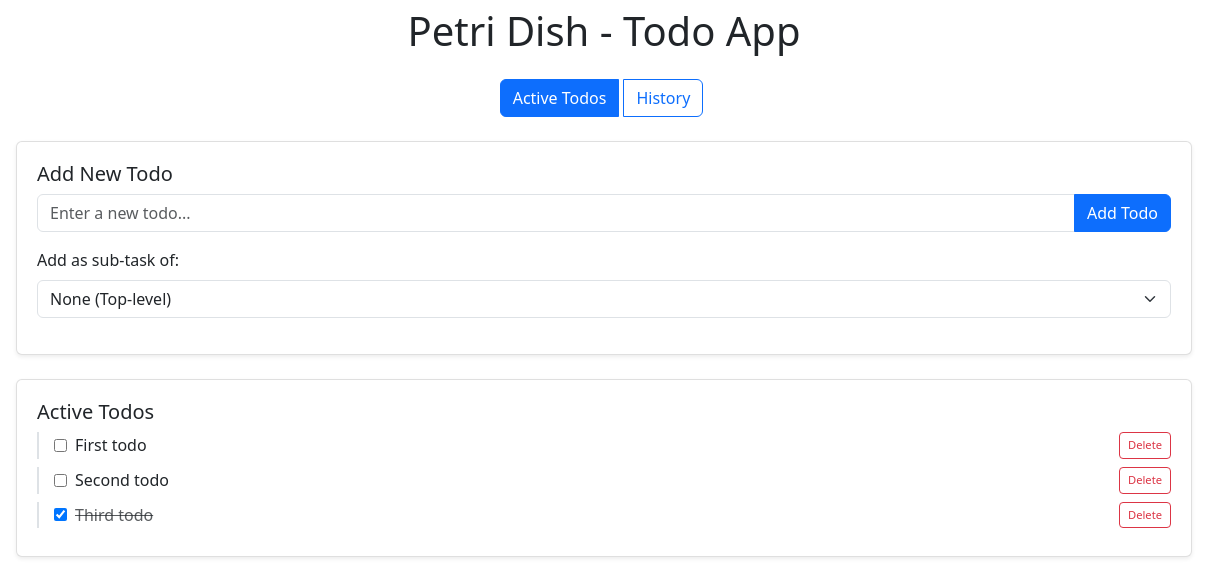
Scenario: App Component › Navigation and Views › switches back to active view
This screenshot has width=1209, height=576.
// Switch to history
What coordinates should you click on to do the following:
click the button "History"
I would click on:
 (663, 98)
Its box is x1=623 y1=79 x2=703 y2=117.
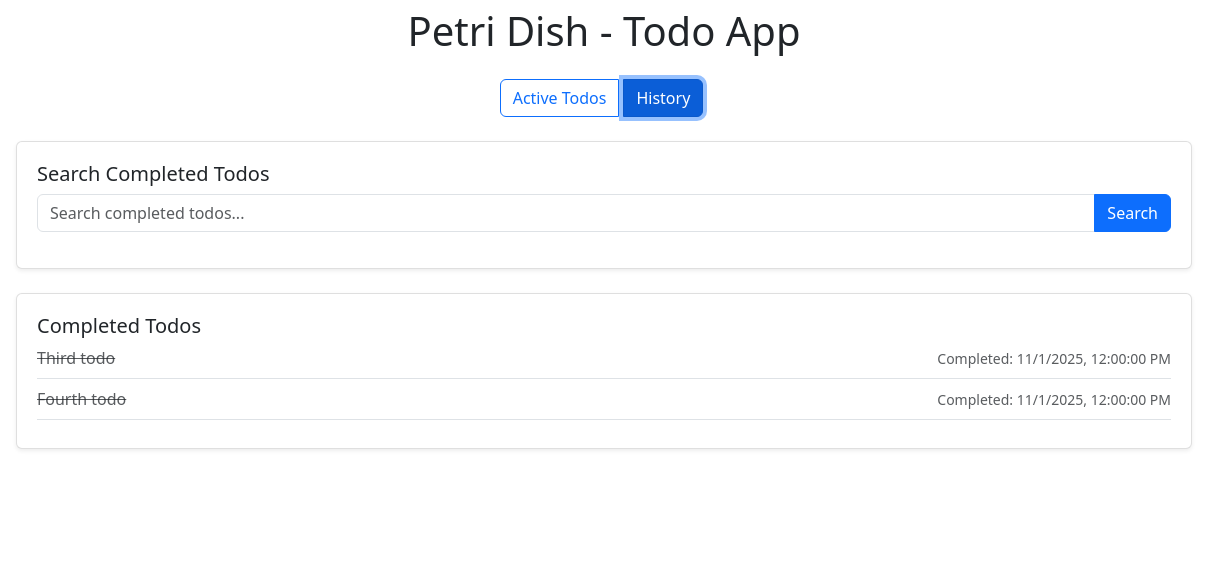
Result: the heading "Search Completed Todos" is shown at x1=37 y1=160 x2=270 y2=187
// Switch back to active
What coordinates should you click on to do the following:
click the button "Active Todos"
I would click on:
 (560, 98)
Its box is x1=500 y1=79 x2=620 y2=117.
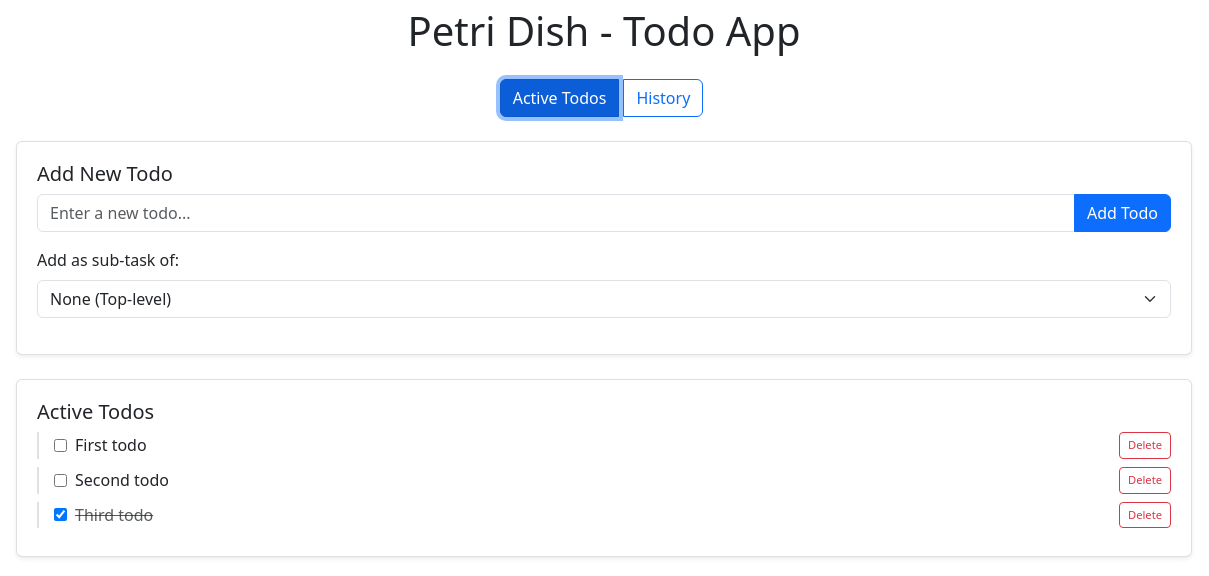
Result: the heading "Add New Todo" is shown at x1=37 y1=160 x2=173 y2=187
Result: the heading "Search Completed Todos" is gone
